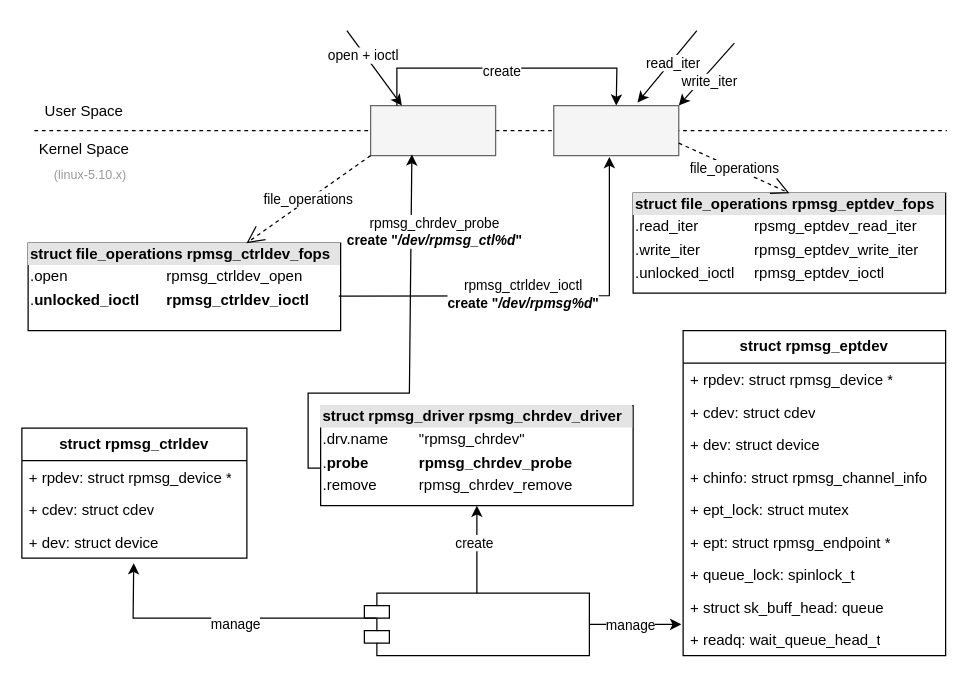
The diagram is 970 pixels wide and 681 high, and some of its shapes have lost their labels. Each missing label, with the centre of its shape:
"/dev/rpmsg0" belongs at point (615, 130).
"/dev/rpmsg_ctl0" belongs at point (432, 130).
"Rpmsg Char (drivers/rpmsg/rpmsg_char.c)" belongs at point (476, 624).
